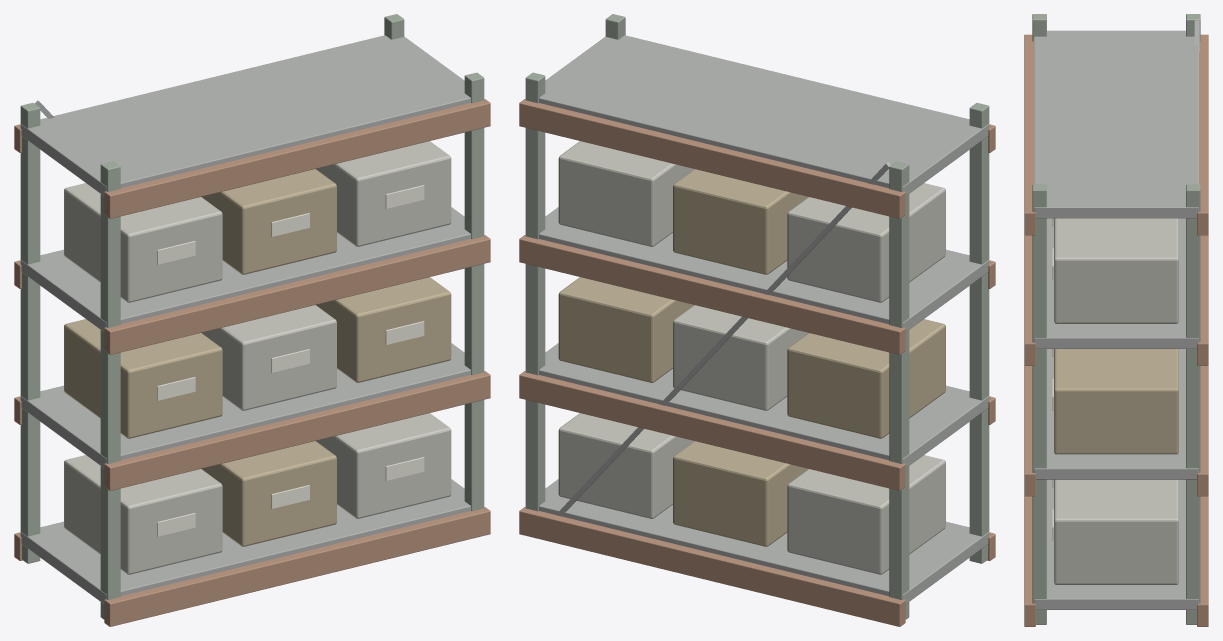
File: F1_PartsRack.fbx
3 renders of one model, left to right at view 1: azimuth 30°, elevation 25°; view 2: azimuth 150°, elevation 25°; view 3: azimuth 270°, elevation 25°, orthographic. The views are drawn at different scales.
Parts seen in each view (by area): view 1: F1_PartsRack_LOD0; view 2: F1_PartsRack_LOD0; view 3: F1_PartsRack_LOD0.
Part boxes in pixels (<box>): F1_PartsRack_LOD0: <box>14,14,490,626</box>; F1_PartsRack_LOD0: <box>519,14,995,626</box>; F1_PartsRack_LOD0: <box>1024,14,1208,626</box>.
Size of what is drawn, in the model's own units: 220 by 252 by 96.
